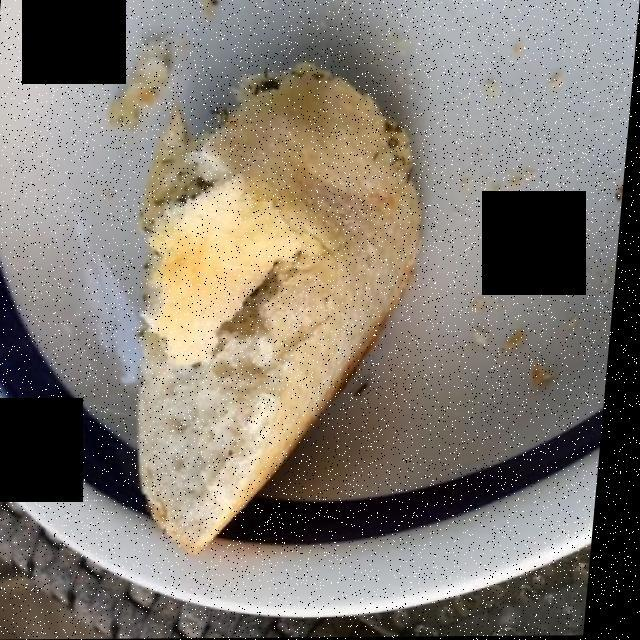bread: (140, 69, 425, 555)
butter: (153, 163, 360, 371)
